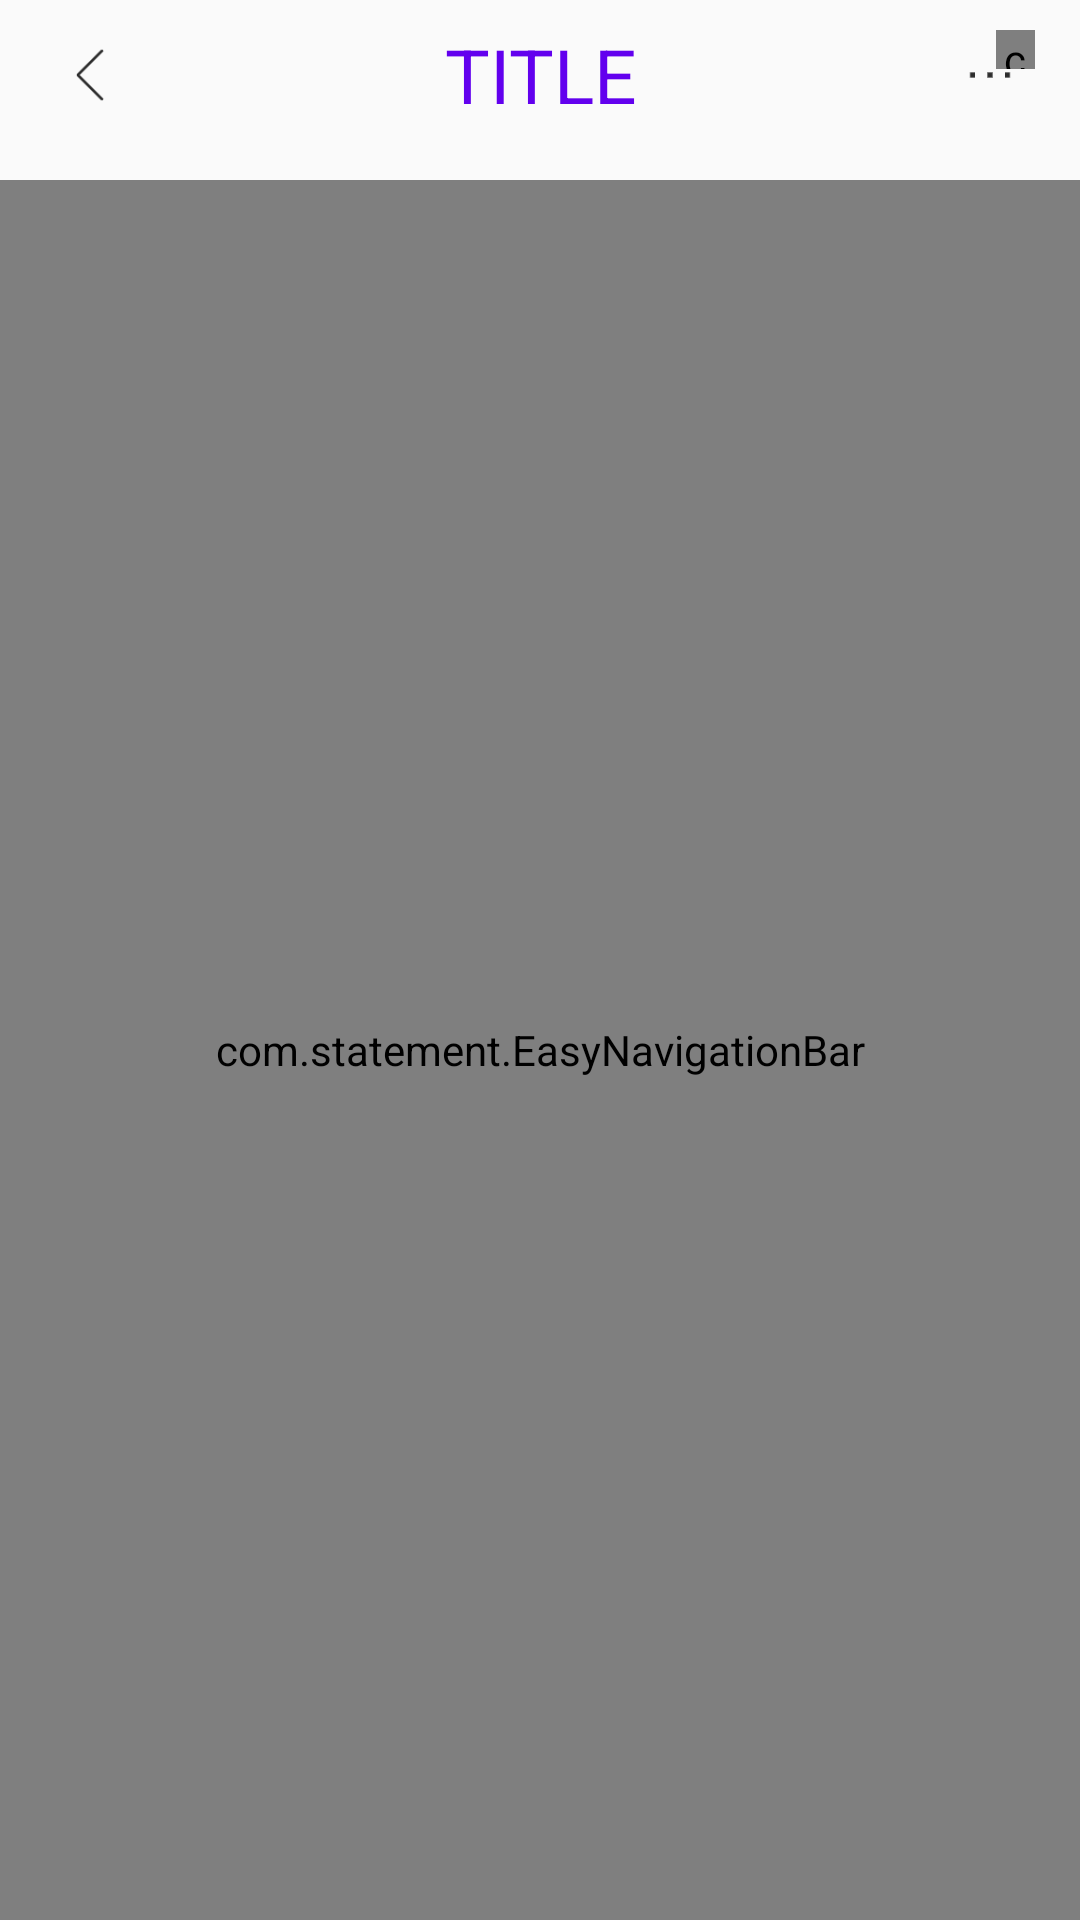

Named icons in this screenshot (1080*1920) and their bounding boxes, (x1,y1,x2,y2):
back: (76,49,104,101)
